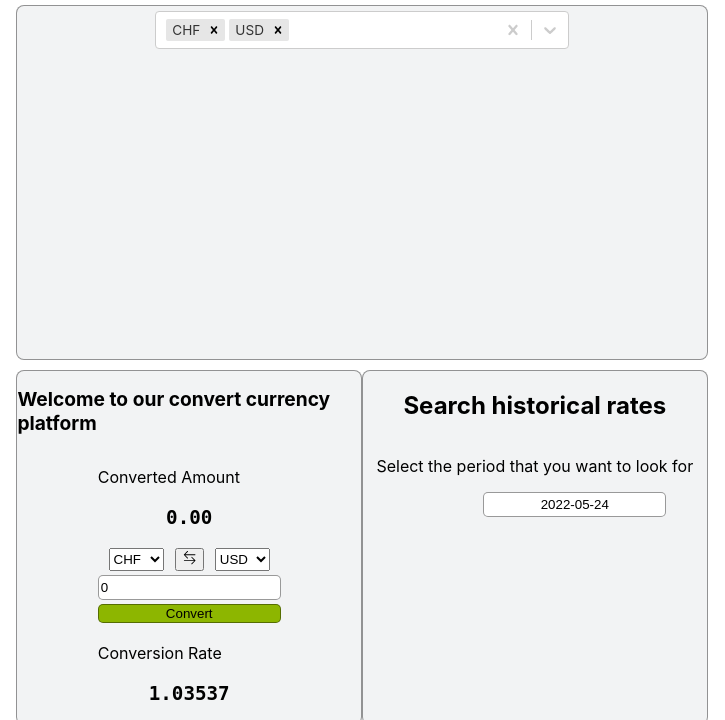
<Main/> › Expect the amount conversion to change
The width and height of the screenshot is (725, 720).
Expected: the text with test id "conversion-result" reads "0.00", [166,506,212,529]
Replace the text in the number field with test id "input-amount" with "500" at point(189, 587), box [98,574,281,600]
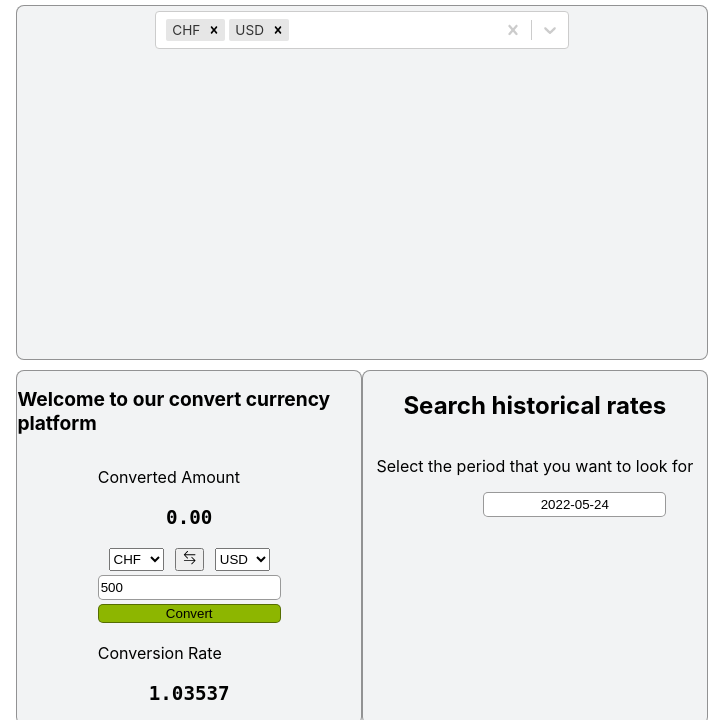
Click the button with test id "submit".
click(189, 613)  # box [98,604,281,622]
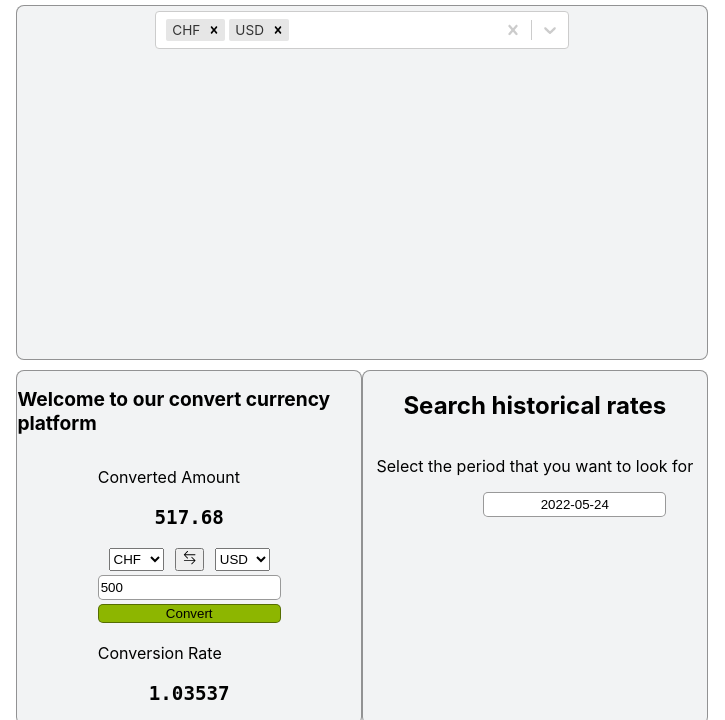
Expected: the text with test id "conversion-result" no longer shows "0.00"
